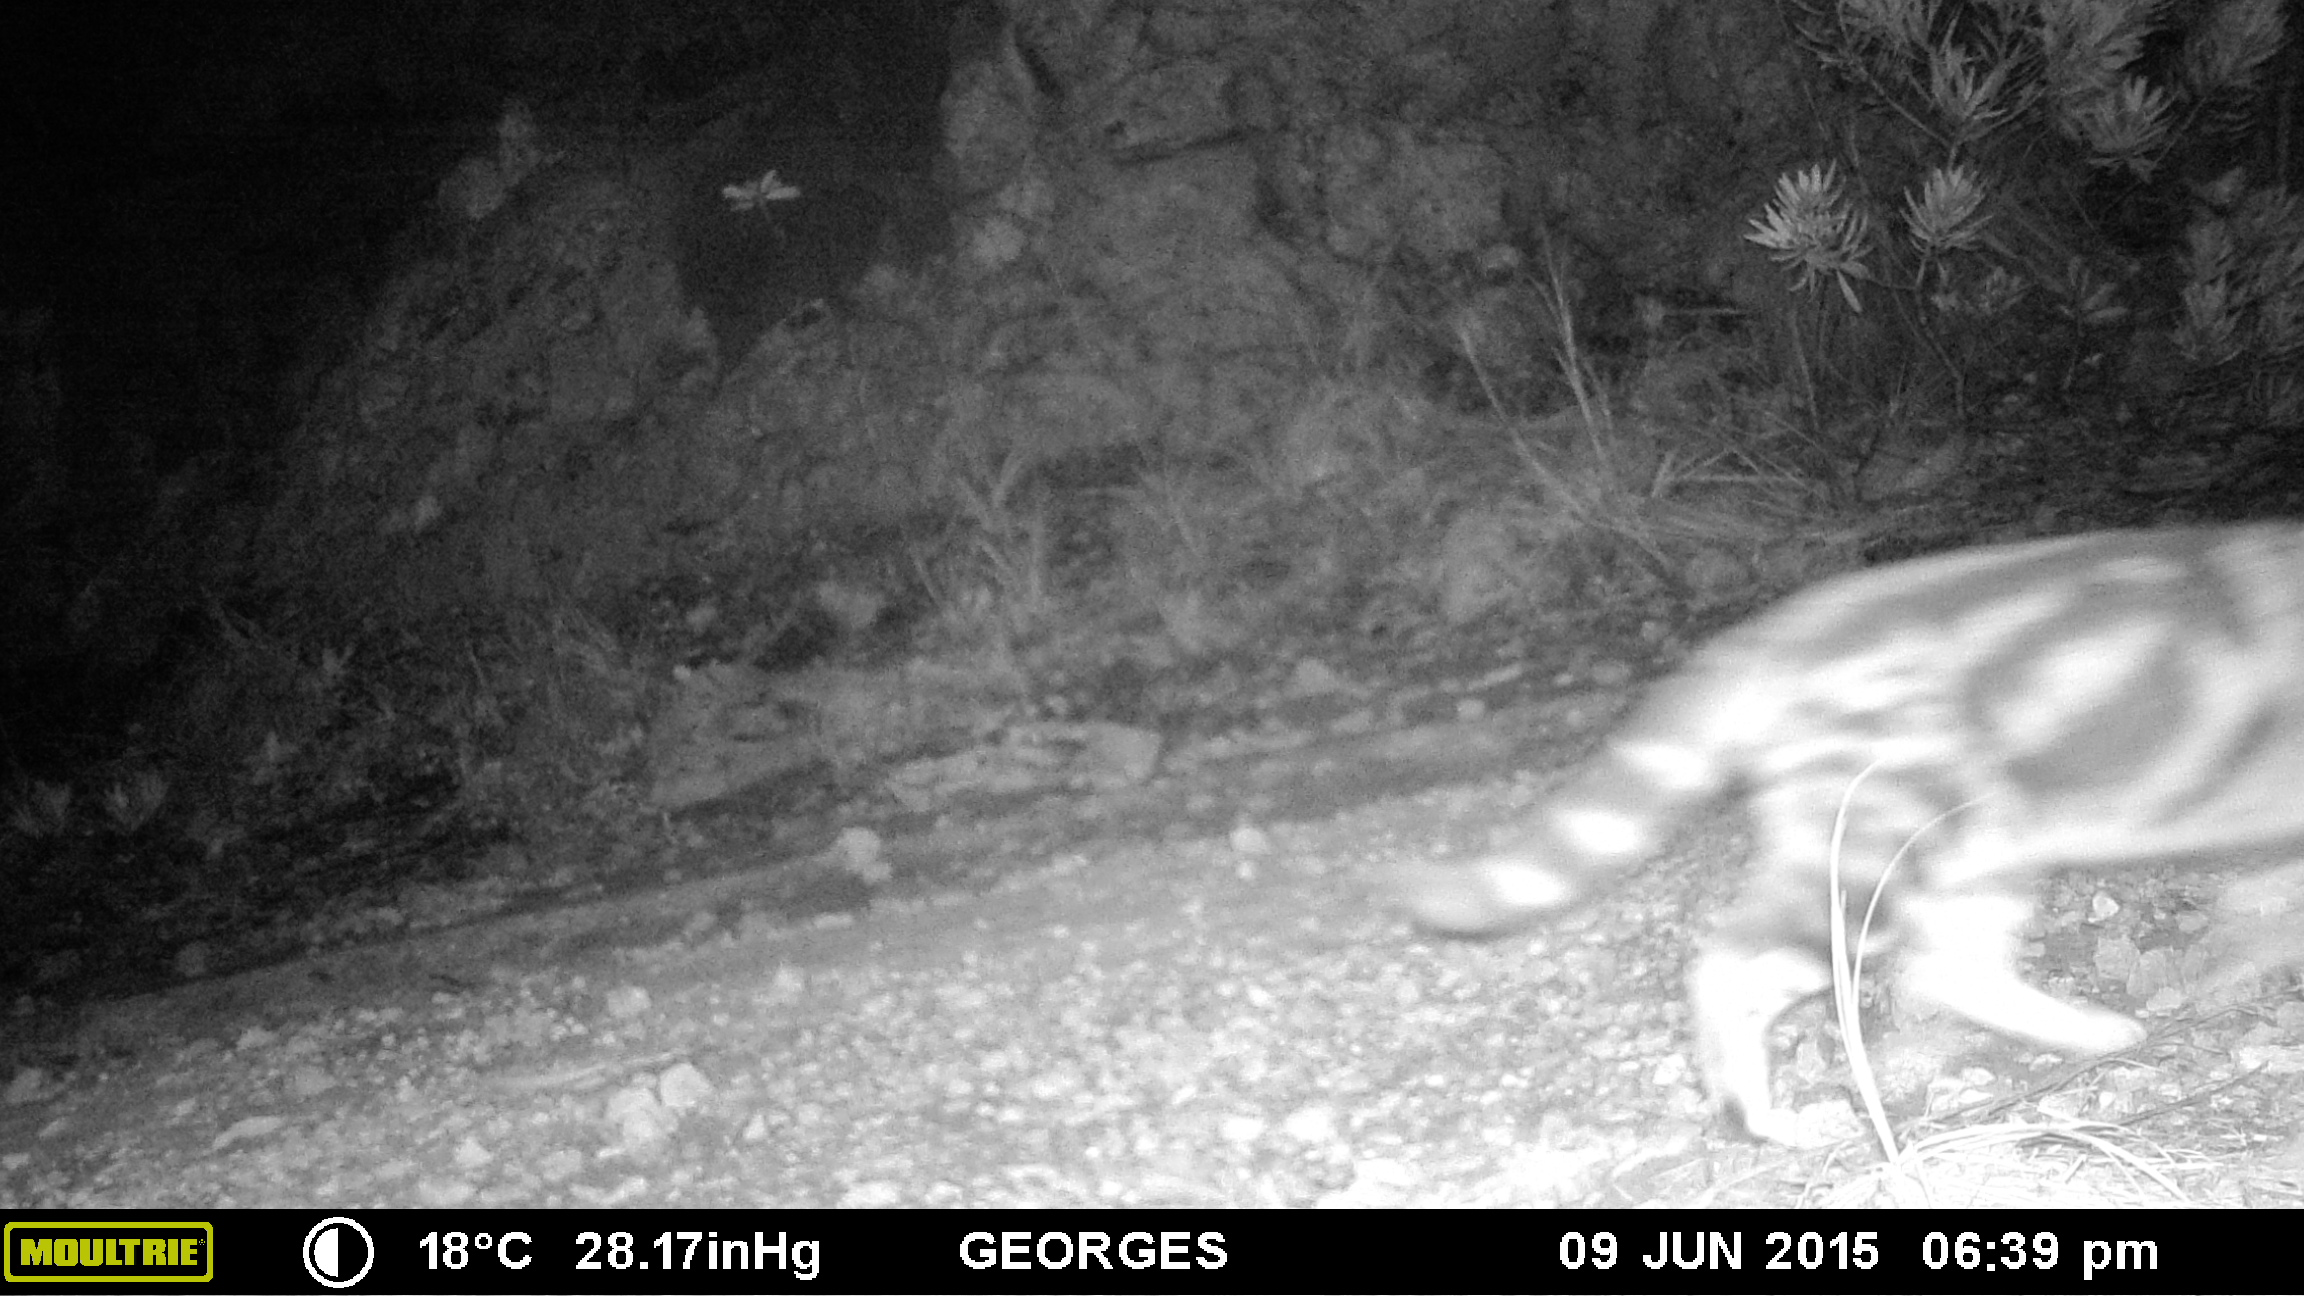cat: (1404, 513, 2298, 1149)
